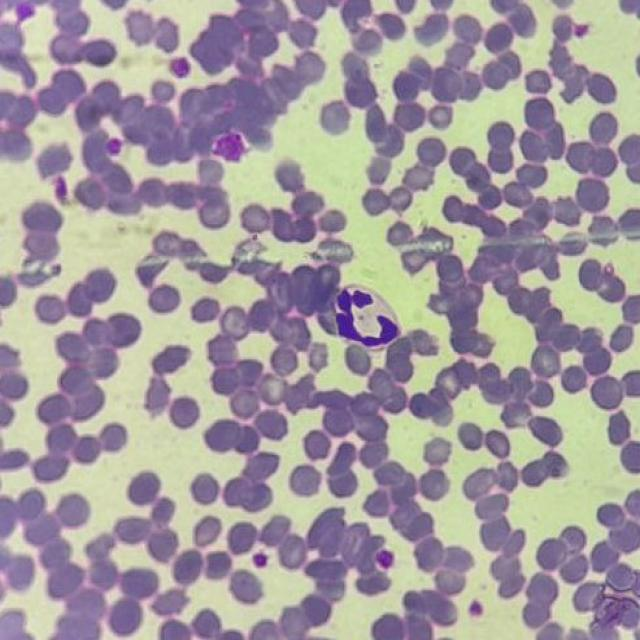Neutrofilo: (333, 283, 406, 354)
